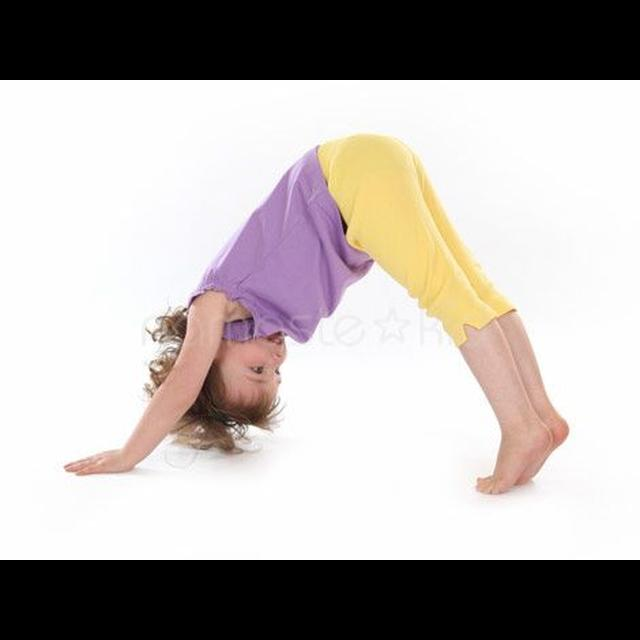Downward-Facing_Dog: (59, 119, 582, 509)
